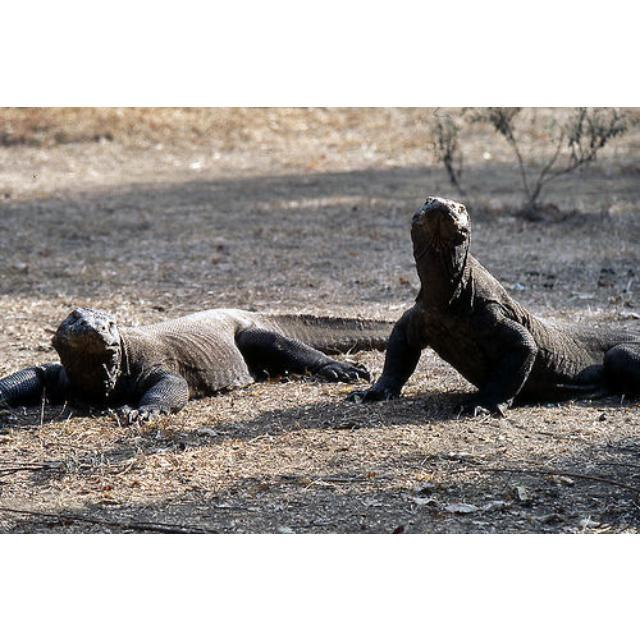KomodoDragon: (349, 189, 637, 420), (1, 307, 396, 424)
